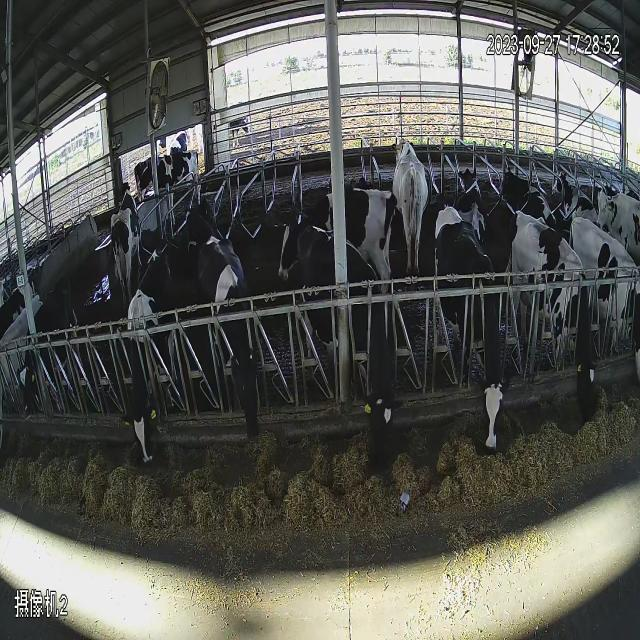drinking: (106, 171, 145, 260)
feeding: (292, 223, 400, 468), (439, 203, 514, 481), (197, 220, 270, 460), (528, 214, 608, 431), (127, 240, 178, 483)
standing: (390, 110, 438, 256), (159, 148, 217, 197)
